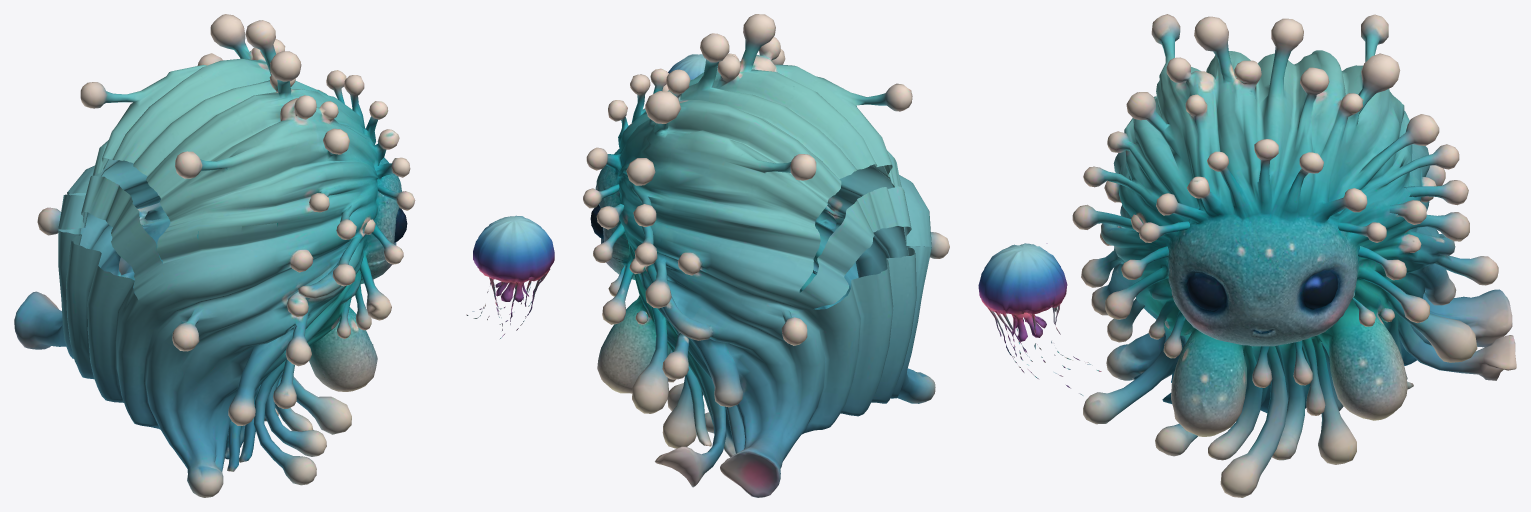
File: cute+underwater+creature+3d+model.glb
3 renders of one model, left to right at view 1: azimuth 30°, elevation 25°; view 2: azimuth 150°, elevation 25°; view 3: azimuth 270°, elevation 25°, orthographic. The views are drawn at different scales.
Visible parts, largest first — view 1: tripo_node_b9252d2d-4890-4e2f-a402-bf39529470c0; view 2: tripo_node_b9252d2d-4890-4e2f-a402-bf39529470c0; view 3: tripo_node_b9252d2d-4890-4e2f-a402-bf39529470c0.
Part boxes in pixels (x1,y1,x2,y2): tripo_node_b9252d2d-4890-4e2f-a402-bf39529470c0: [14, 14, 554, 497]; tripo_node_b9252d2d-4890-4e2f-a402-bf39529470c0: [583, 14, 949, 497]; tripo_node_b9252d2d-4890-4e2f-a402-bf39529470c0: [978, 14, 1516, 497].
Size of the model in its own units: 0.8126 by 0.8989 by 0.9755.
Materials: 1 (1 with a texture image).
